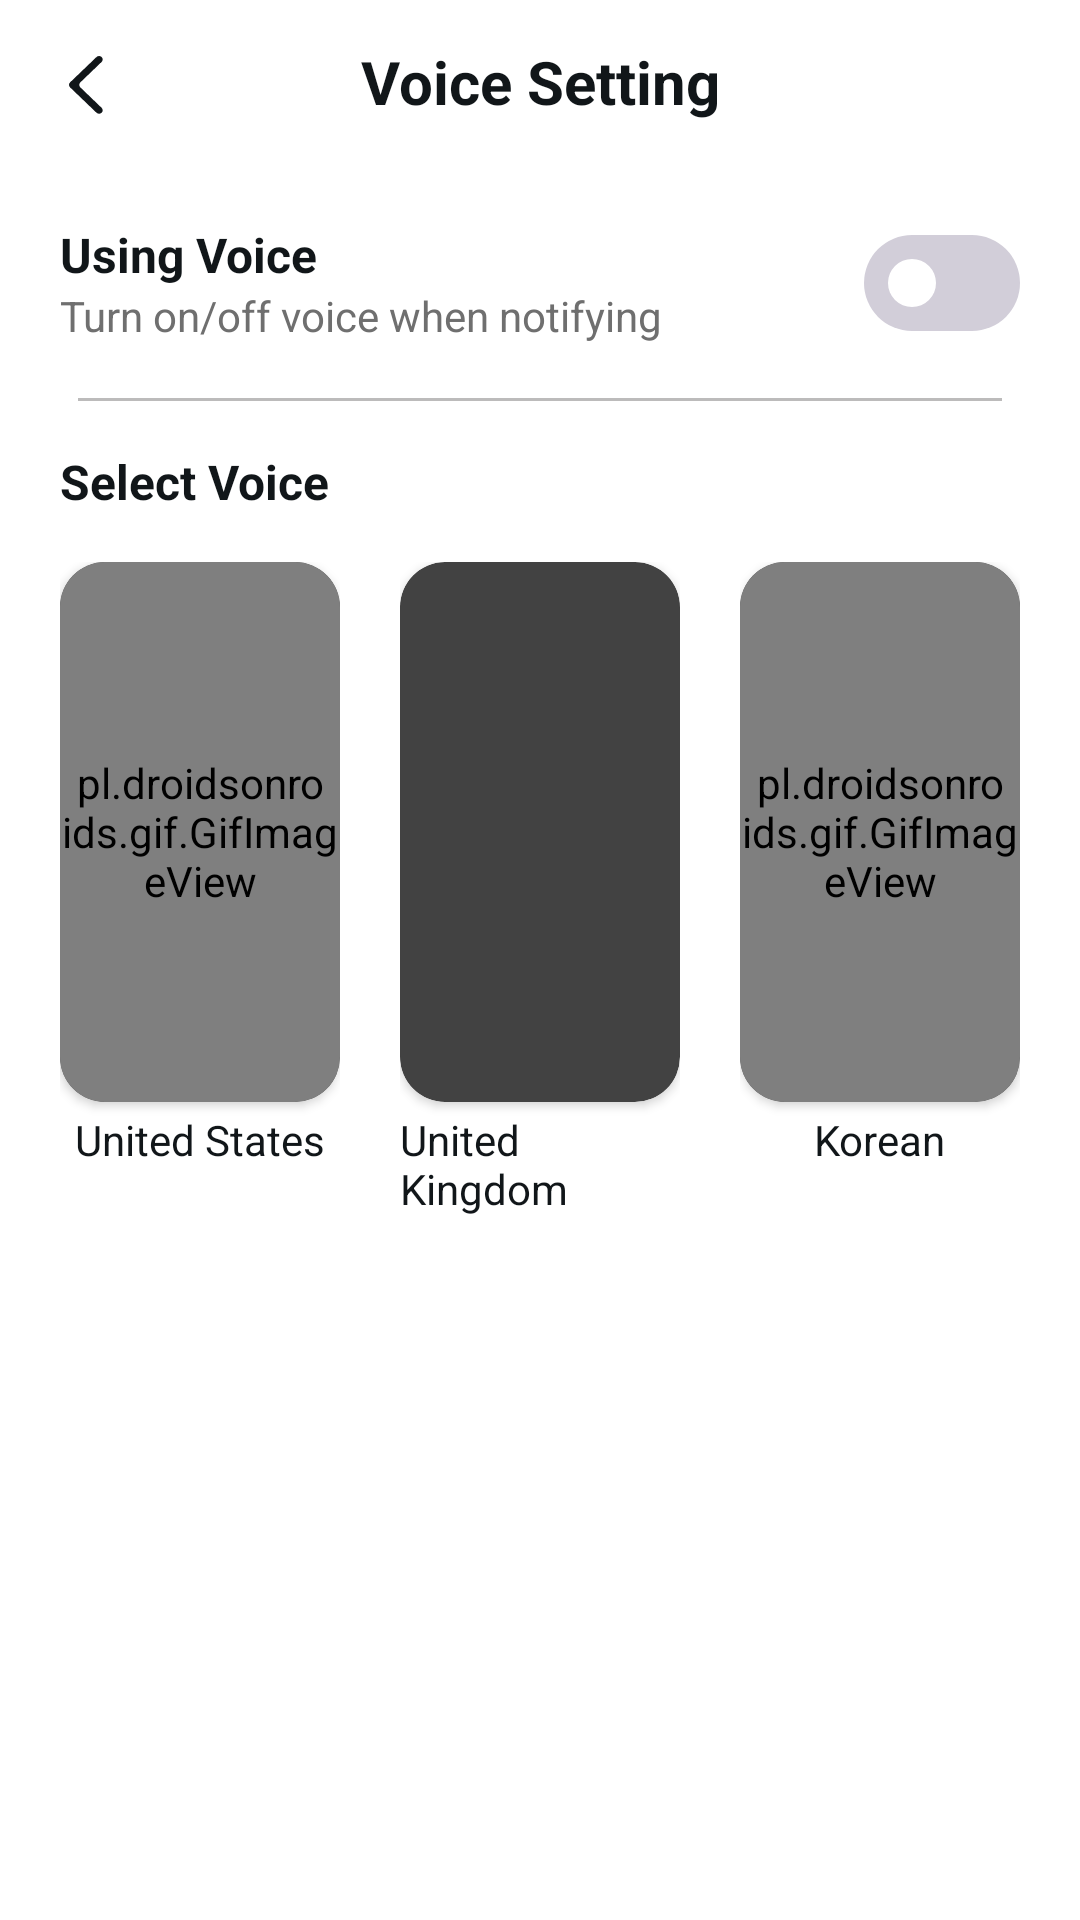

Icons on this 1080×1920 Android screen, each with its box as (x1, y1, x2, y2):
back: (69, 56, 103, 114)
